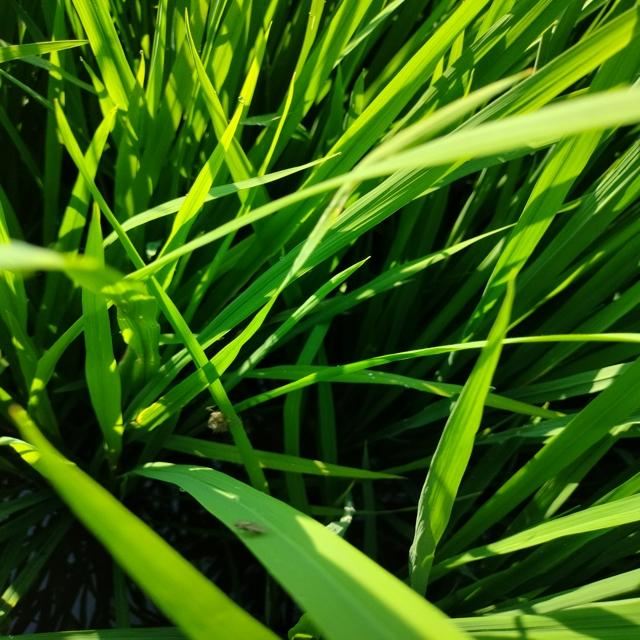healthy: (229, 510, 276, 542)
